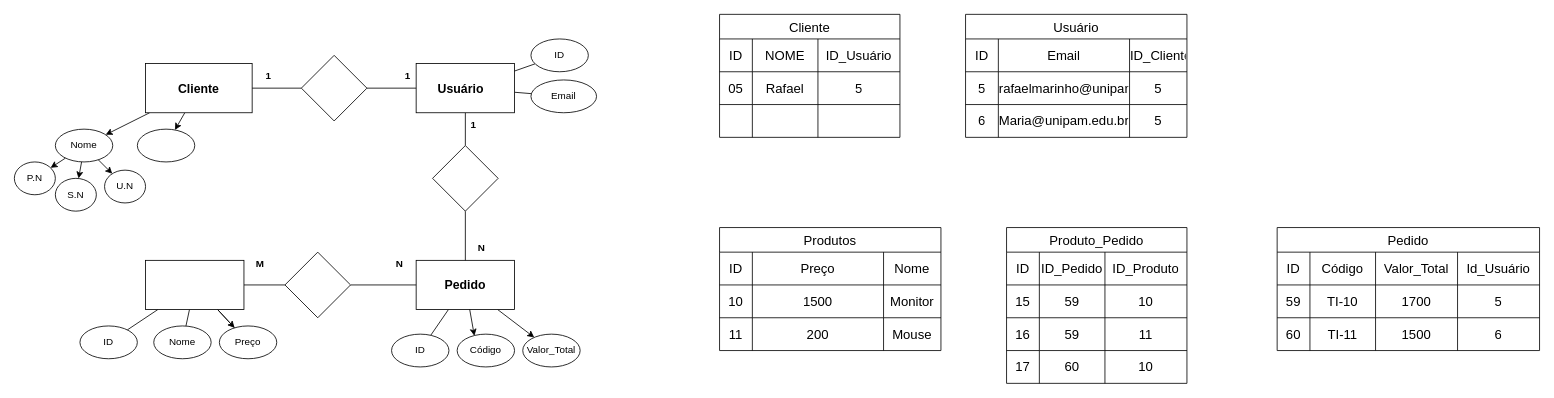
This 1554x398 diagram has some shape labels left out. The centre of each missing label's shape, as x and y in pixels:
Cadastra: (334,88)
Contem: (317,284)
CPF: (166,145)
faz: (465,178)
Produto: (194,285)
